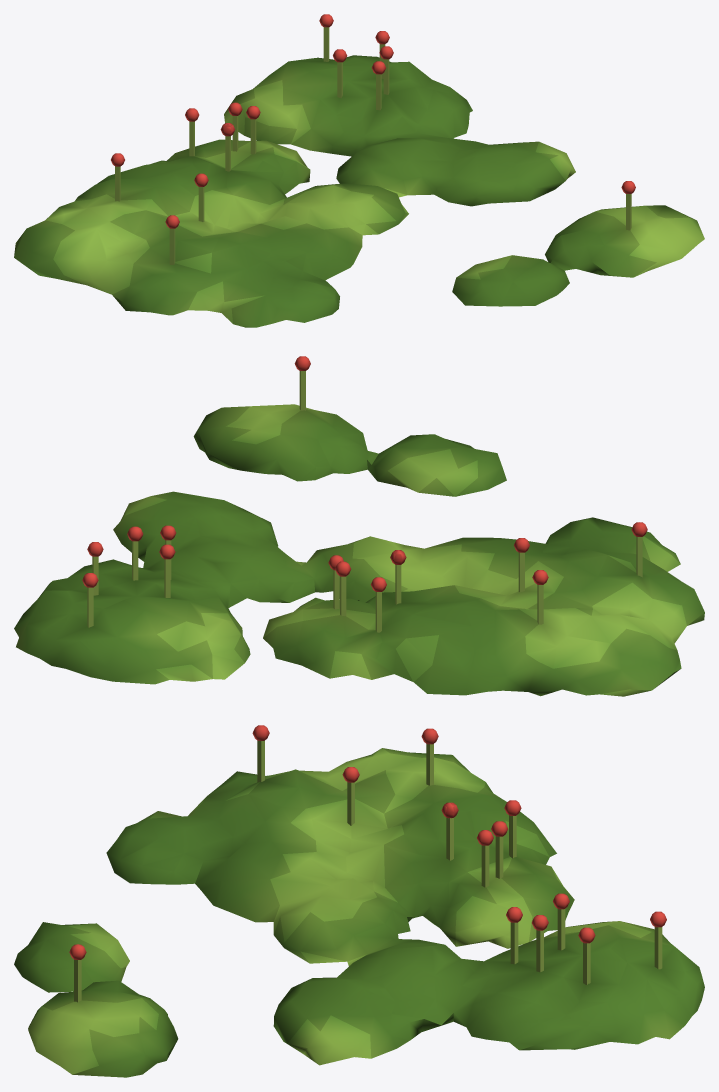
File: glade_gc_moss_patch_c.glb
The picture shows the model from 3 angles, top to bottom: view 1: azimuth 30°, elevation 25°; view 2: azimuth 150°, elevation 25°; view 3: azimuth 270°, elevation 25°; orthographic projection. The views are drawn at different scales.
Parts seen in each view (by area): view 1: glade_gc_moss_patch_c; view 2: glade_gc_moss_patch_c; view 3: glade_gc_moss_patch_c.
Part boxes in pixels (left/top/right/bottom): glade_gc_moss_patch_c: left=14, top=14, right=704, bottom=327; glade_gc_moss_patch_c: left=14, top=356, right=704, bottom=696; glade_gc_moss_patch_c: left=14, top=725, right=704, bottom=1077.
Bounding box in the file's own units: 7.7 × 1.19 × 7.19.
